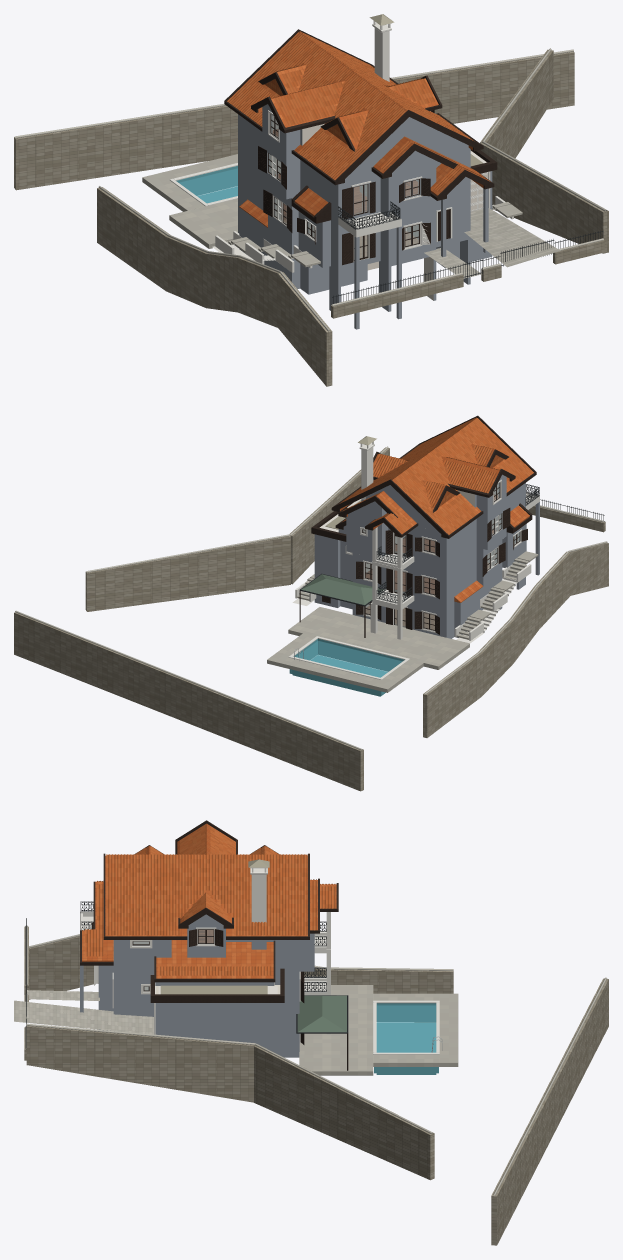
Rendered from building.glb.
3 renders of one model, top to bottom at view 1: azimuth 30°, elevation 25°; view 2: azimuth 150°, elevation 25°; view 3: azimuth 270°, elevation 25°, orthographic. The views are drawn at different scales.
Parts seen in each view (by area): view 1: fixed | Retaining wall rough limestone, fixed | stucco, fixed | wood_dark, fixed | stone_tile, fixed | white_trim, fixed | roof, fixed | Entrance coursed limestone, fixed | Clay tile 2, fixed | Clay tile 1, fixed | Clay tile 5, fixed | Clay tile 0, fixed | Clay tile 4 (+7 smaller); view 2: fixed | Retaining wall rough limestone, fixed | stucco, fixed | stone_tile, fixed | wood_dark, fixed | white_trim, fixed | pool_tile, fixed | roof, fixed | water, fixed | Clay tile 1, fixed | Clay tile 2, fixed | Clay tile 5, fixed | Clay tile 4 (+6 smaller); view 3: fixed | Retaining wall rough limestone, fixed | stucco, fixed | stone_tile, fixed | wood_dark, fixed | roof, fixed | Clay tile 1, fixed | white_trim, fixed | Clay tile 3, fixed | pool_tile, fixed | Entrance coursed limestone, fixed | Clay tile 4, fixed | Clay tile 2 (+7 smaller).
Part boxes in pixels (x1=…): fixed | Retaining wall rough limestone: x1=14, y1=49, x2=608, y2=386; fixed | stucco: x1=238, y1=104, x2=492, y2=329; fixed | wood_dark: x1=224, y1=29, x2=497, y2=265; fixed | stone_tile: x1=14, y1=48, x2=606, y2=331; fixed | white_trim: x1=169, y1=21, x2=513, y2=272; fixed | roof: x1=239, y1=32, x2=490, y2=227; fixed | Entrance coursed limestone: x1=424, y1=208, x2=560, y2=278; fixed | Clay tile 2: x1=236, y1=31, x2=486, y2=186; fixed | Clay tile 1: x1=231, y1=38, x2=478, y2=190; fixed | Clay tile 5: x1=227, y1=33, x2=472, y2=173; fixed | Clay tile 0: x1=239, y1=32, x2=482, y2=178; fixed | Clay tile 4: x1=237, y1=32, x2=477, y2=187; fixed | Retaining wall rough limestone: x1=14, y1=447, x2=608, y2=791; fixed | stucco: x1=314, y1=474, x2=539, y2=638; fixed | stone_tile: x1=15, y1=446, x2=607, y2=750; fixed | wood_dark: x1=299, y1=415, x2=536, y2=637; fixed | white_trim: x1=288, y1=441, x2=539, y2=679; fixed | pool_tile: x1=289, y1=638, x2=404, y2=696; fixed | roof: x1=340, y1=418, x2=529, y2=602; fixed | water: x1=296, y1=641, x2=402, y2=677; fixed | Clay tile 1: x1=340, y1=422, x2=532, y2=531; fixed | Clay tile 2: x1=343, y1=421, x2=533, y2=530; fixed | Clay tile 5: x1=342, y1=418, x2=521, y2=534; fixed | Clay tile 4: x1=340, y1=420, x2=528, y2=530; fixed | Retaining wall rough limestone: x1=24, y1=926, x2=608, y2=1245; fixed | stucco: x1=80, y1=914, x2=314, y2=1057; fixed | stone_tile: x1=25, y1=925, x2=607, y2=1195; fixed | wood_dark: x1=80, y1=820, x2=348, y2=1070; fixed | roof: x1=82, y1=823, x2=336, y2=978; fixed | Clay tile 1: x1=88, y1=828, x2=335, y2=975; fixed | white_trim: x1=80, y1=867, x2=439, y2=1054; fixed | Clay tile 3: x1=85, y1=830, x2=335, y2=975; fixed | pool_tile: x1=374, y1=1003, x2=438, y2=1074; fixed | Entrance coursed limestone: x1=14, y1=990, x2=153, y2=1034; fixed | Clay tile 4: x1=85, y1=828, x2=331, y2=975; fixed | Clay tile 2: x1=85, y1=824, x2=331, y2=975.
Bounding box in the file's own units: 36.02 × 18.42 × 39.97.
25 materials, 25 textured.
